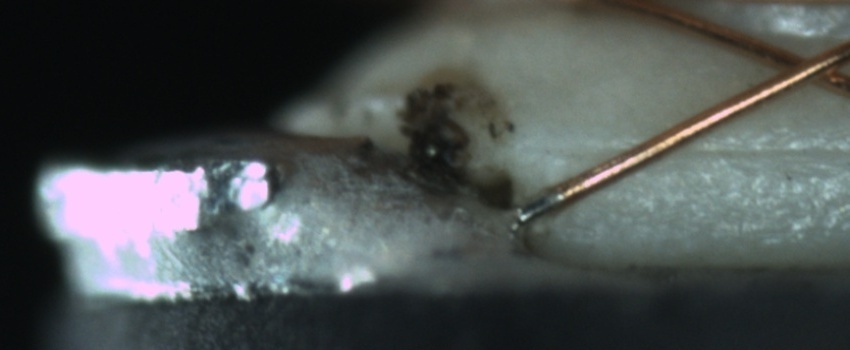CL: (755, 39, 847, 96)
DL: (561, 121, 850, 181)
TS: (518, 188, 560, 224)
TTCW: (514, 182, 568, 227)
